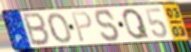5: (143, 7, 168, 39)
B: (22, 12, 52, 48)
O: (47, 12, 73, 44)
P: (70, 10, 94, 43)
Q: (122, 7, 151, 41)
S: (94, 8, 121, 43)
